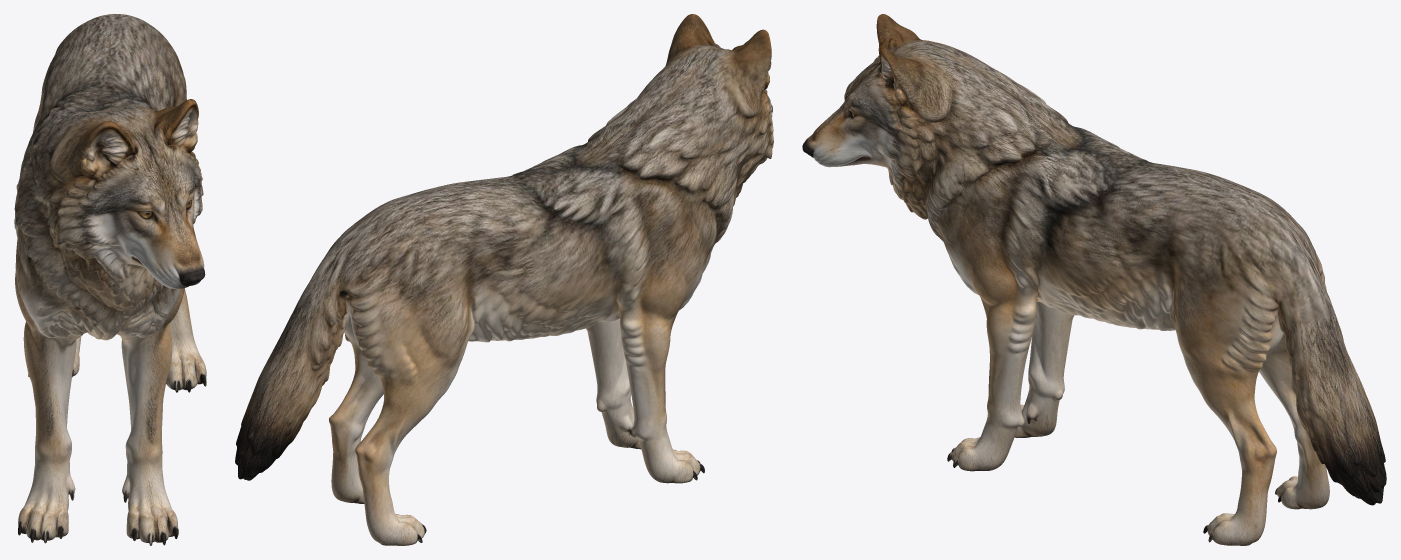
Rendered from wolf-light.glb.
3 renders of one model, left to right at view 1: azimuth 30°, elevation 25°; view 2: azimuth 150°, elevation 25°; view 3: azimuth 270°, elevation 25°, orthographic. The views are drawn at different scales.
Visible parts, largest first — view 1: wolf; view 2: wolf; view 3: wolf.
Part boxes in pixels (left/top/right/bottom): wolf: left=14, top=14, right=206, bottom=545; wolf: left=235, top=14, right=773, bottom=545; wolf: left=802, top=14, right=1386, bottom=545.
Size of the model in its own units: 1.1 by 1.31 by 1.7.
1 material, 1 textured.
